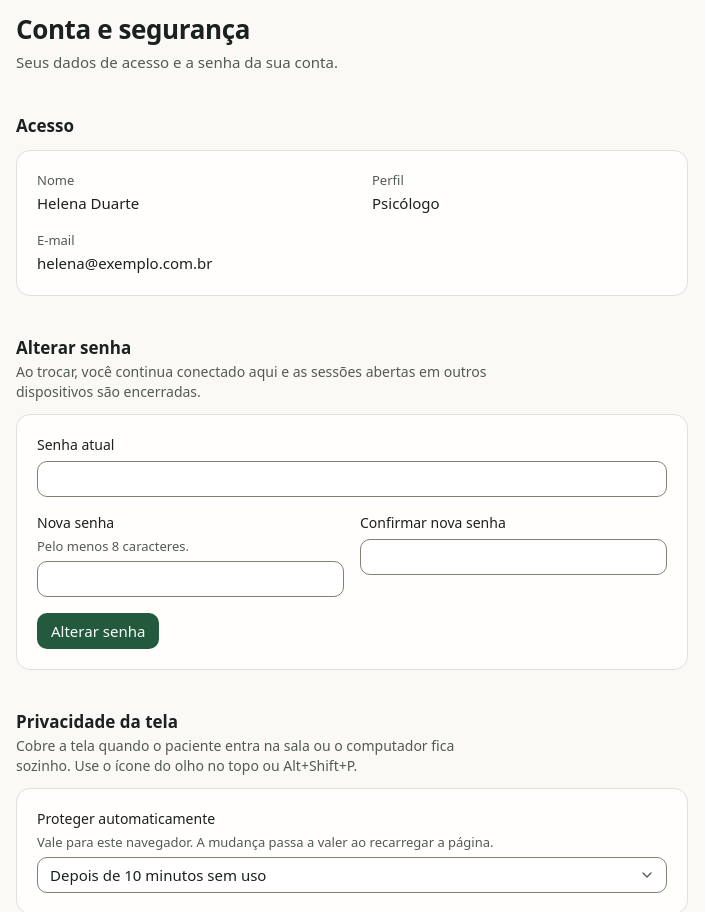
it: ContaPage › mostra o erro do servidor e preserva o que foi digitado
The width and height of the screenshot is (705, 912).
Type "errada" into the password field labelled "Senha atual" at [352, 479], box [37,461,667,497]
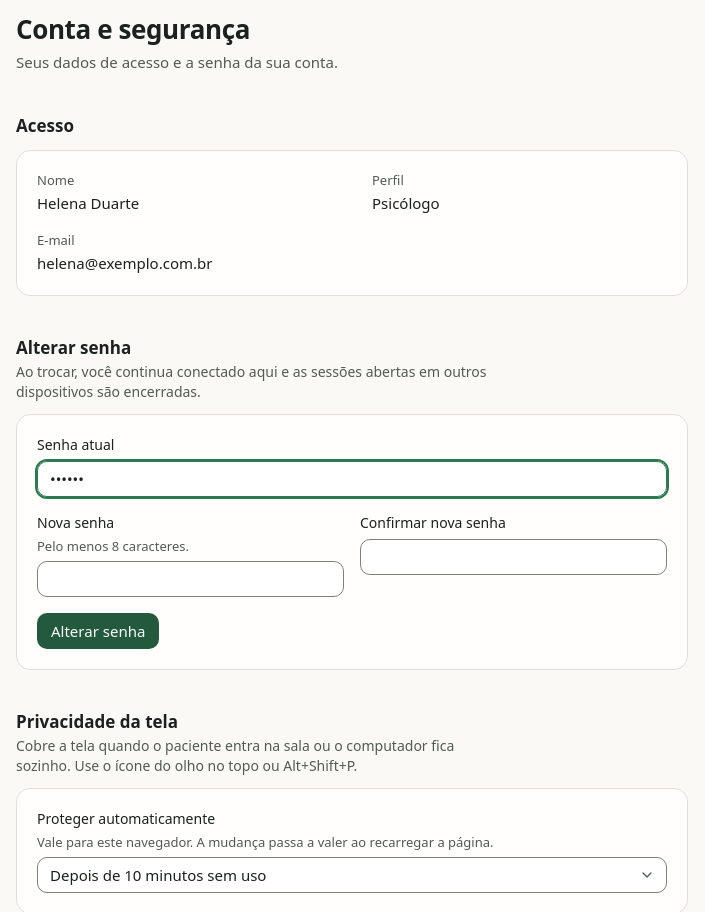
Type "senha-nova-segura" into the password field labelled "Nova senha" at [190, 579], box [37,561,344,597]
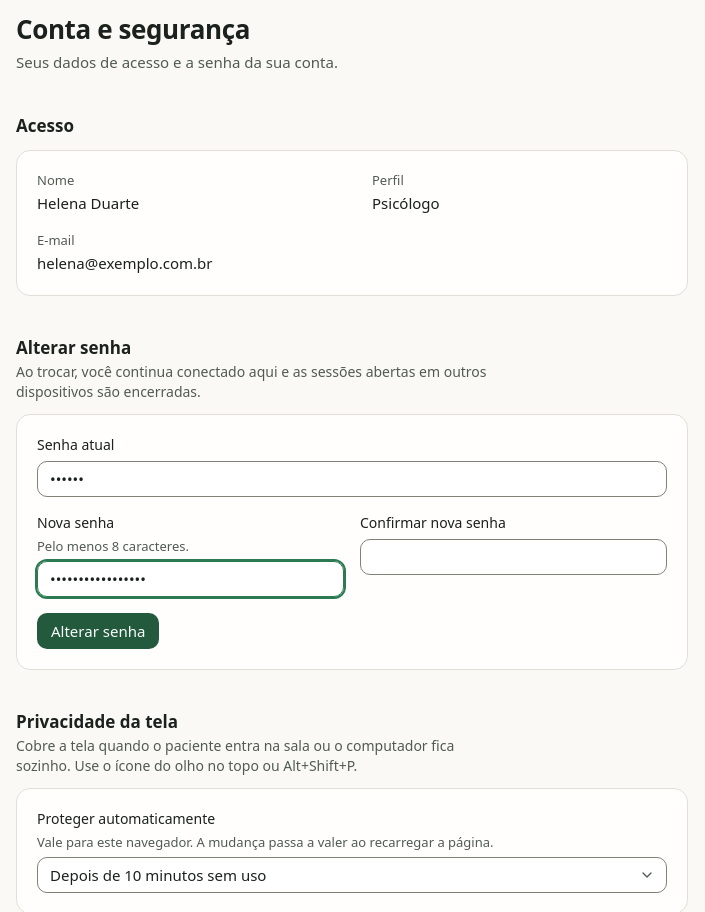
Type "senha-nova-segura" into the password field labelled "Confirmar nova senha" at [514, 557], box [360,539,667,575]
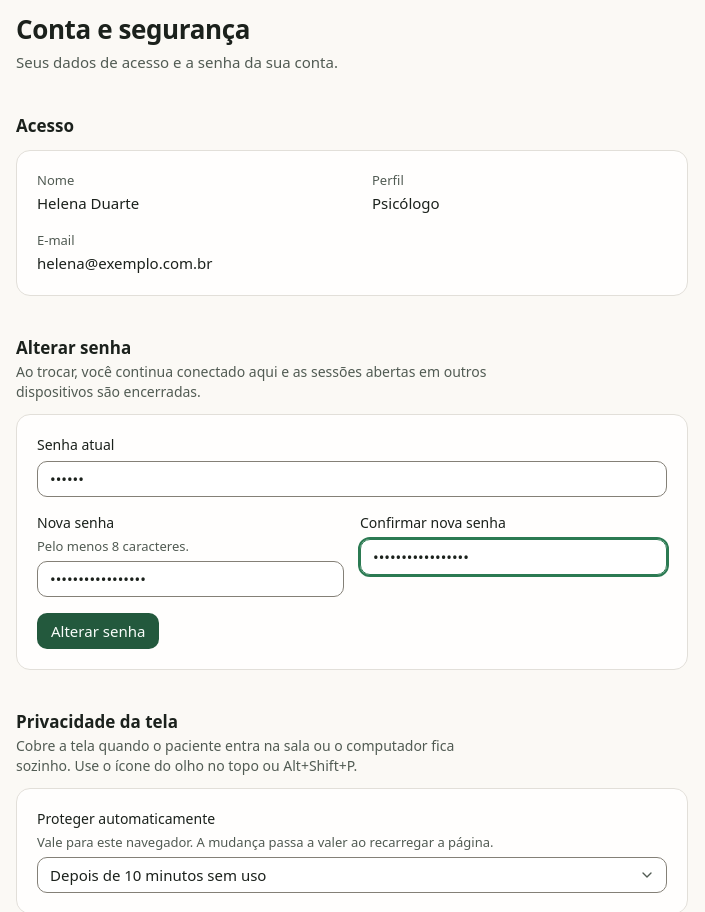
Click the button "Alterar senha" at [98, 631], box [37,613,159,649]
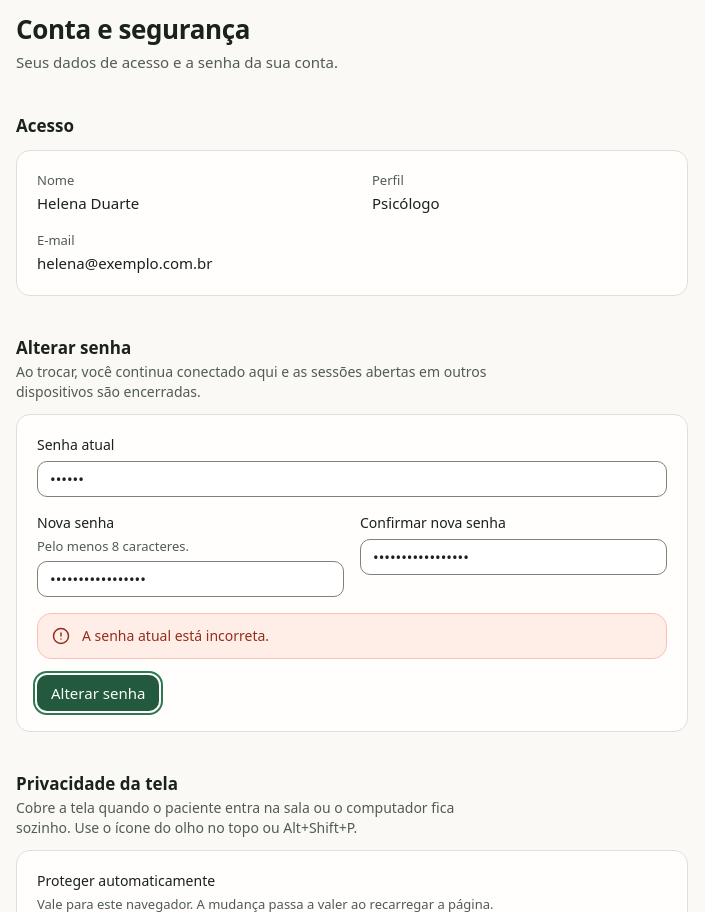
Result: the text "A senha atual está incorreta." is shown at [82,626,269,645]
